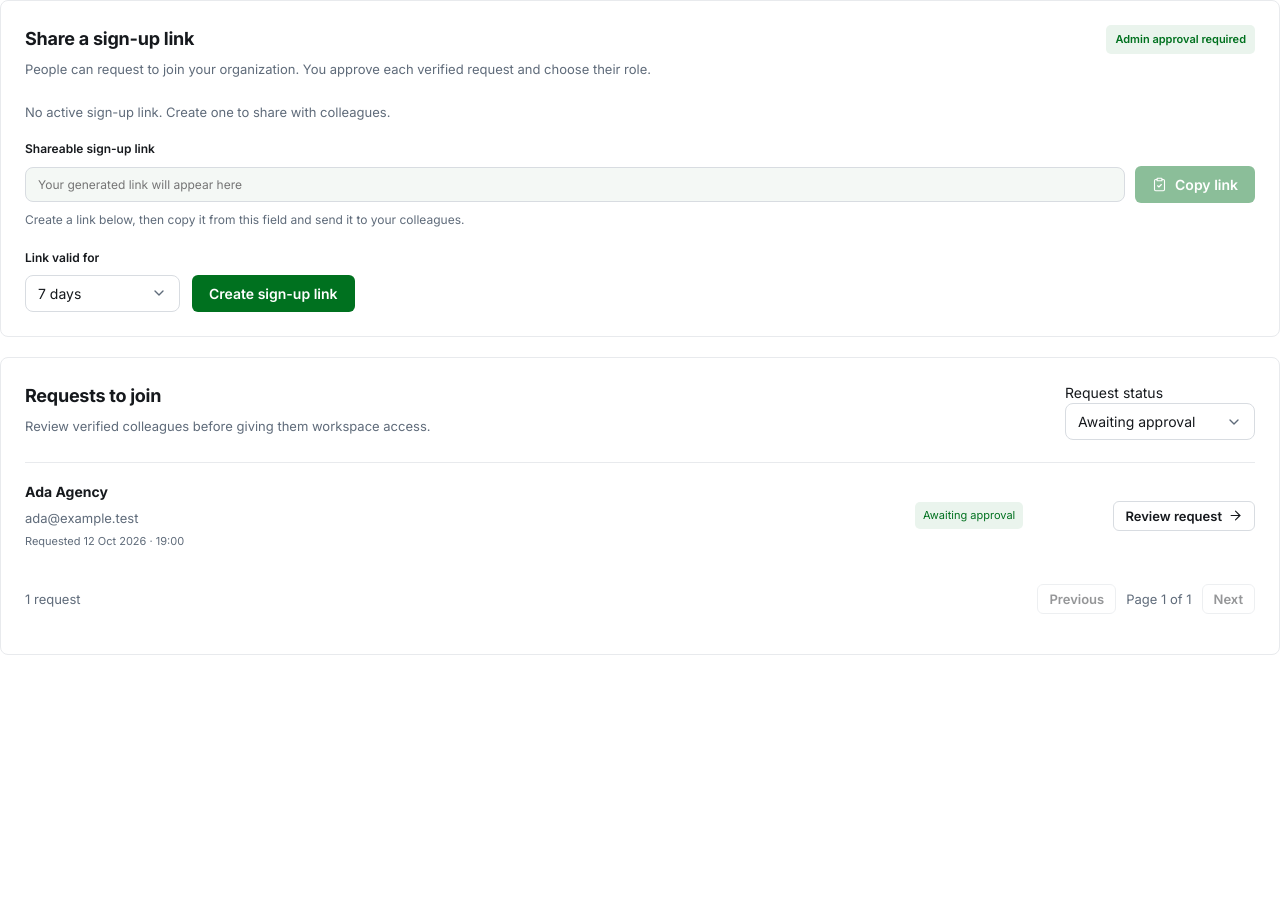
Test case: organization sign-up link and approval › defaults to verified pending requests and approves the explicitly selected role
Click the button with aria-label "Review Ada Agency" at [1184, 516], box [1114,501,1255,531]
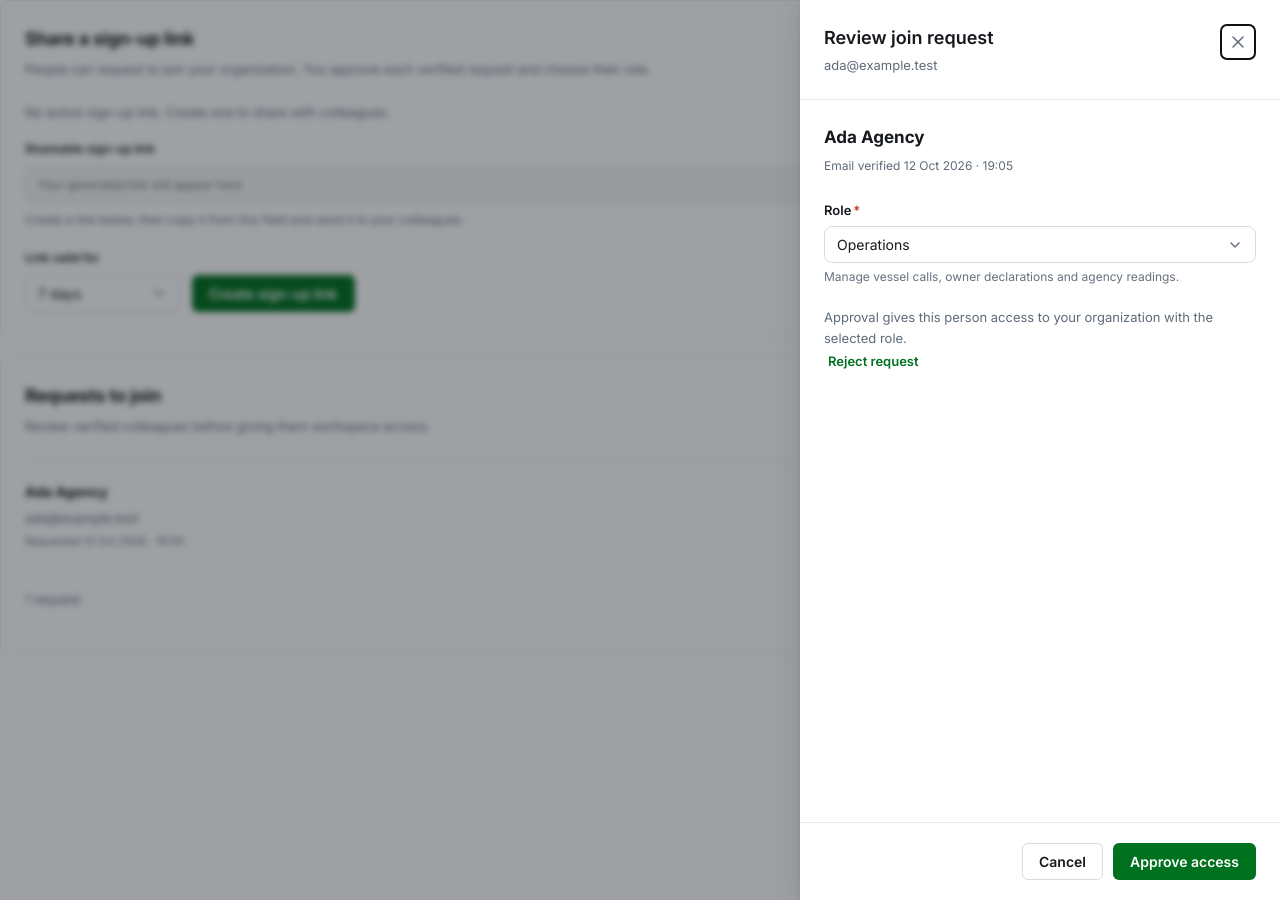
Expected: the dropdown labelled "Role*" shows "Operations"
Select "Finance" in the dropdown labelled "Role*" at [1040, 245], box [824,226,1256,263]
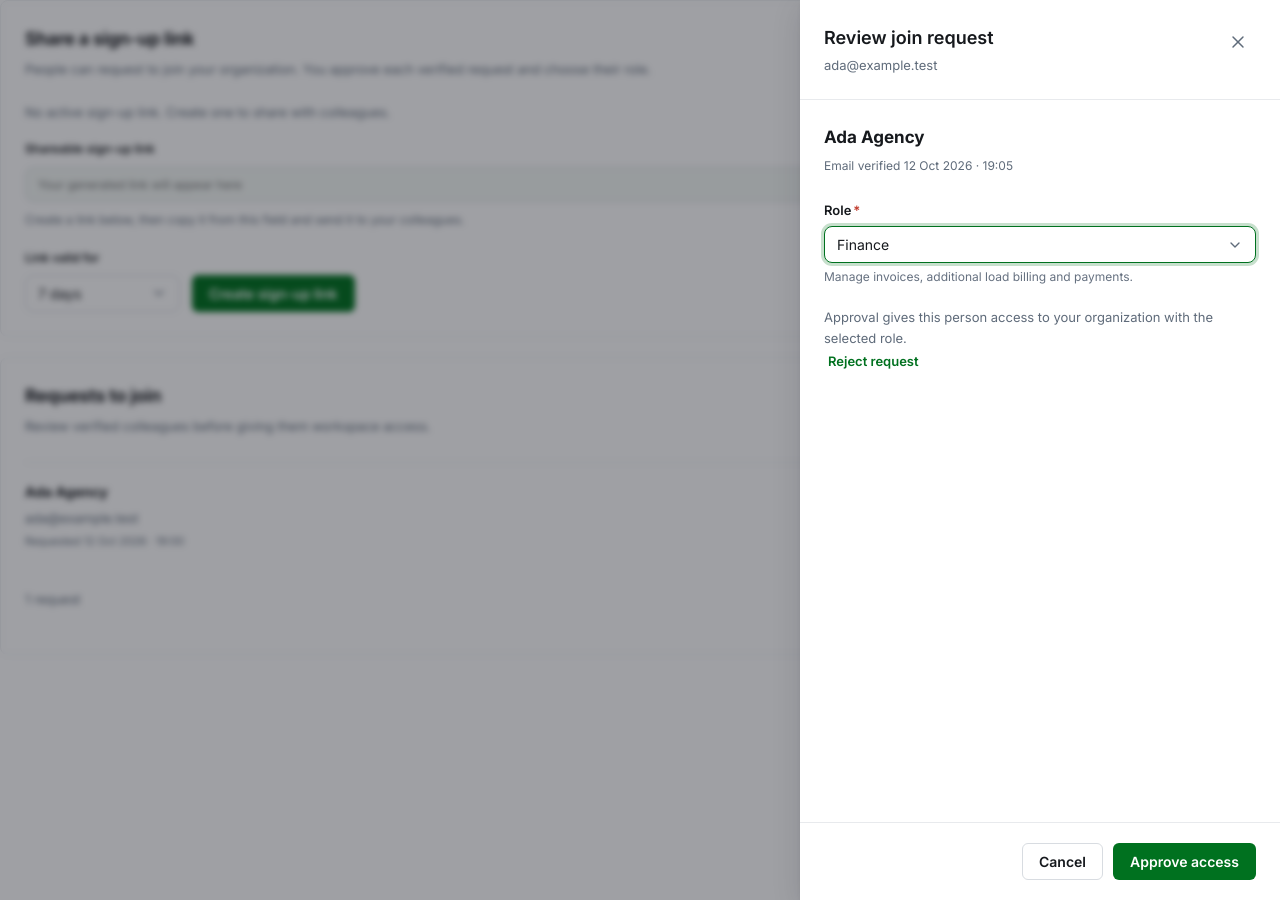
Click the button "Approve access" at [1184, 862], box [1113,843,1256,880]
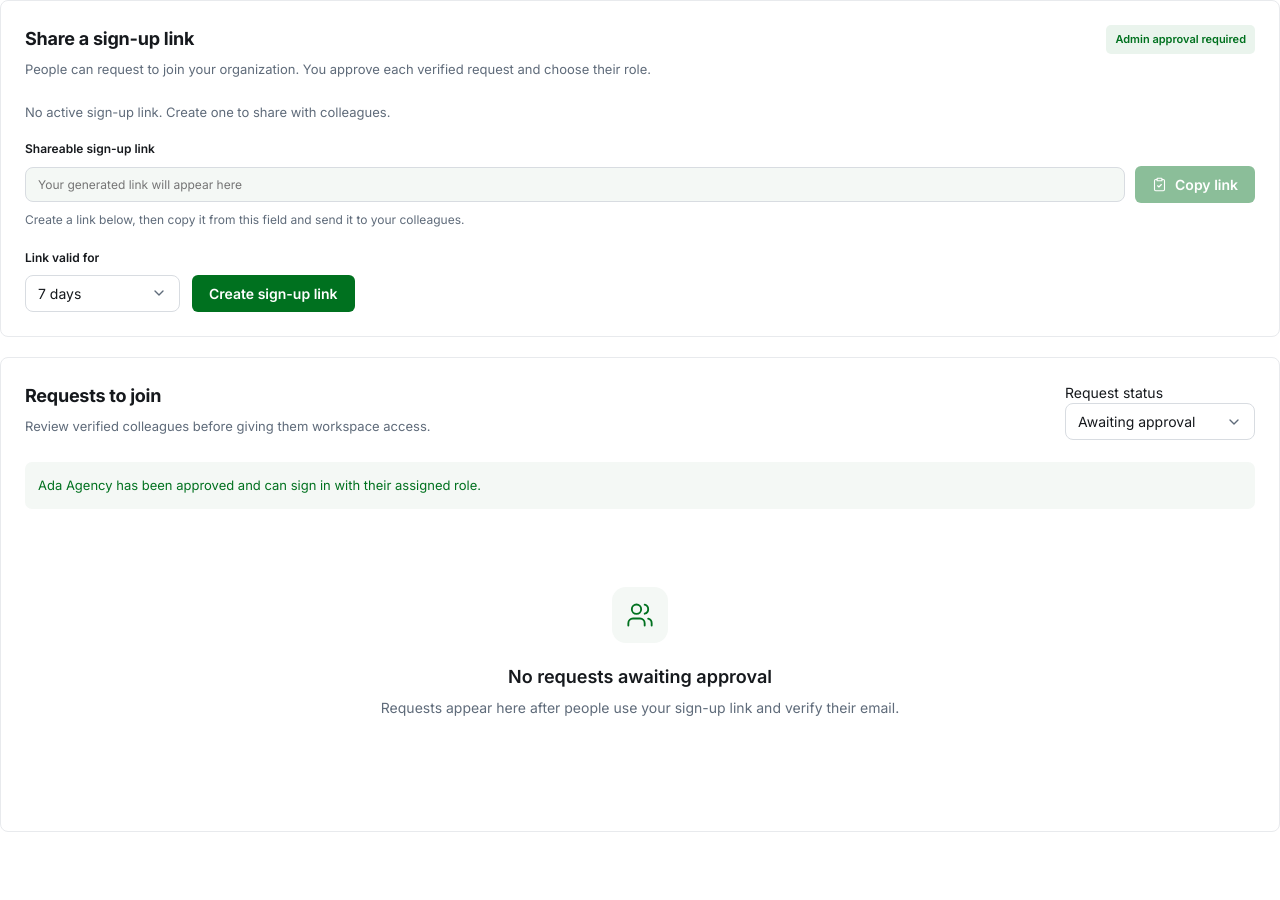
Expected: the text "Ada Agency has been approved and can sign in with their assigned role." is shown, [25,462,1255,509]
